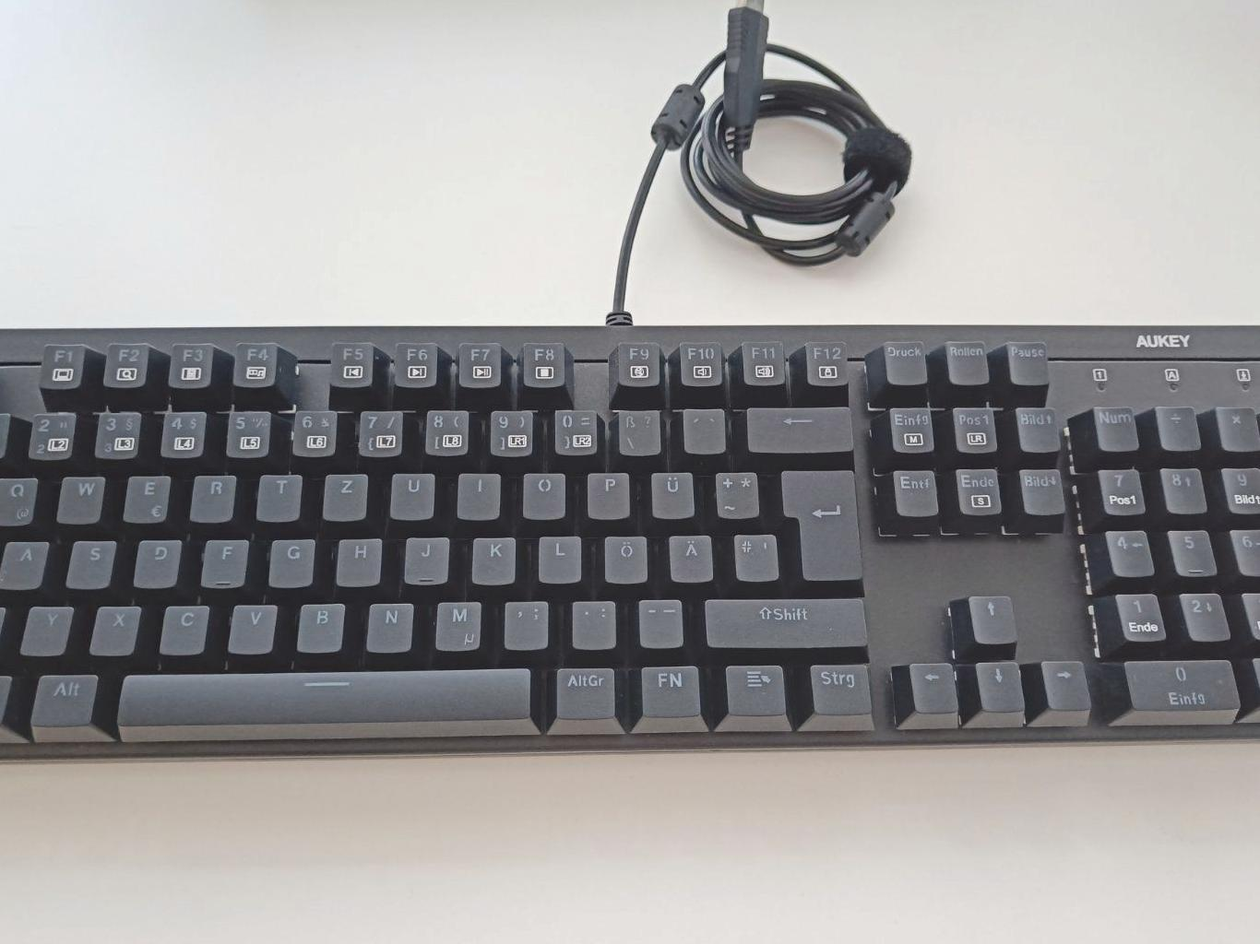0: (551, 406, 601, 456)
1: (1, 409, 26, 461)
2: (29, 412, 77, 464)
3: (92, 410, 141, 459)
4: (159, 408, 208, 458)
5: (223, 407, 272, 457)
6: (289, 406, 340, 456)
7: (357, 408, 405, 459)
8: (422, 407, 470, 458)
9: (487, 407, 535, 457)
a: (1, 537, 47, 589)
accent: (680, 406, 725, 453)
ae: (667, 531, 713, 582)
alt-left: (28, 670, 100, 726)
altgr-right: (551, 665, 617, 720)
b: (295, 599, 346, 651)
c: (158, 601, 209, 654)
caret: (1, 411, 24, 460)
comma: (502, 597, 549, 649)
d: (133, 536, 181, 587)
del: (743, 404, 852, 452)
e: (122, 472, 171, 523)
enter: (780, 466, 861, 581)
f: (200, 536, 248, 586)
g: (267, 536, 315, 586)
h: (334, 536, 383, 585)
hash: (731, 530, 778, 581)
i: (455, 470, 501, 519)
j: (402, 534, 449, 583)
k: (470, 533, 517, 584)
keyboard: (1, 314, 1260, 775)
l: (535, 533, 581, 583)
less: (1, 604, 29, 655)
m: (432, 598, 482, 651)
minus: (635, 596, 684, 647)
n: (364, 599, 414, 652)
o: (519, 469, 566, 518)
oe: (601, 532, 648, 583)
p: (585, 469, 631, 519)
plus: (712, 468, 759, 518)
point: (569, 597, 617, 648)
q: (1, 474, 38, 525)
r: (189, 471, 236, 522)
s: (65, 537, 115, 588)
shift-left: (1, 605, 30, 658)
shift-lock: (1, 539, 49, 592)
shift-right: (702, 596, 869, 648)
space: (114, 667, 534, 730)
ss: (614, 407, 661, 455)
strg-left: (1, 673, 23, 725)
strg-right: (806, 662, 874, 716)
t: (256, 471, 302, 520)
tab: (1, 475, 42, 525)
u: (387, 469, 435, 519)
ue: (648, 468, 695, 518)
v: (226, 601, 278, 653)
w: (55, 473, 104, 523)
x: (88, 603, 140, 655)
y: (18, 604, 72, 655)
z: (321, 470, 368, 520)
